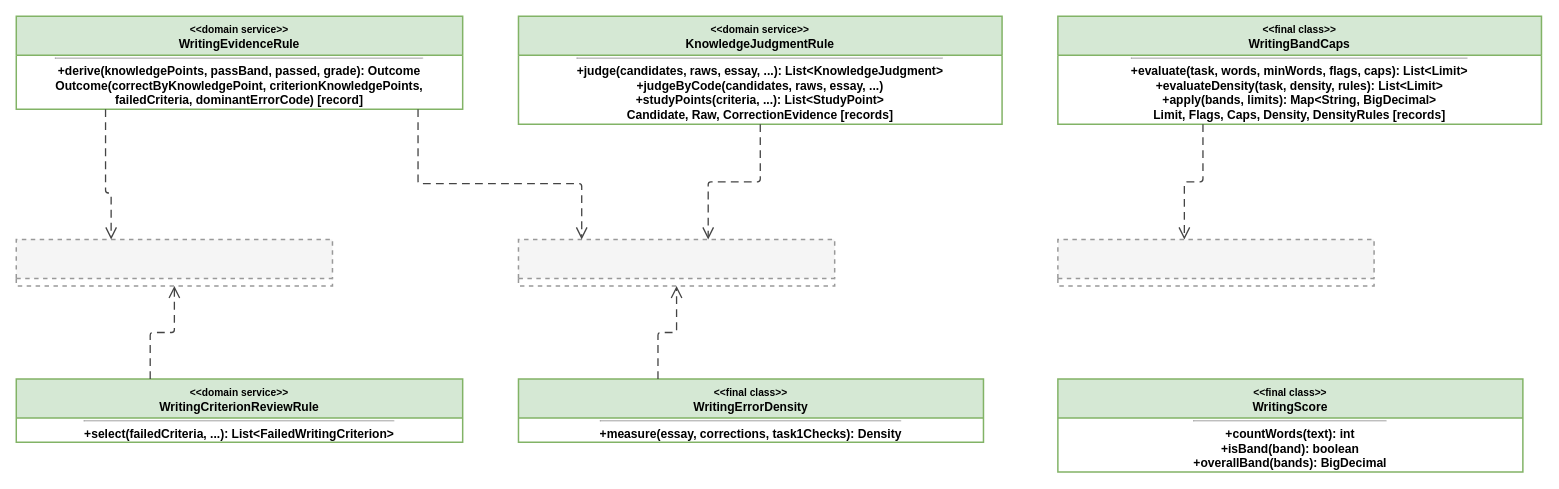
Some shapes in this 1559 by 489 pixel diagram are drawn without their labels. The shapes that lost their labels are listed below. From the top down, each one's centre as x and y in pixels, then its label:
At (174,262): "<<record>> FailedWritingCriterion".
At (676,262): "<<record>> WritingGrade".
At (1215,262): "<<enum>> WritingTask".
